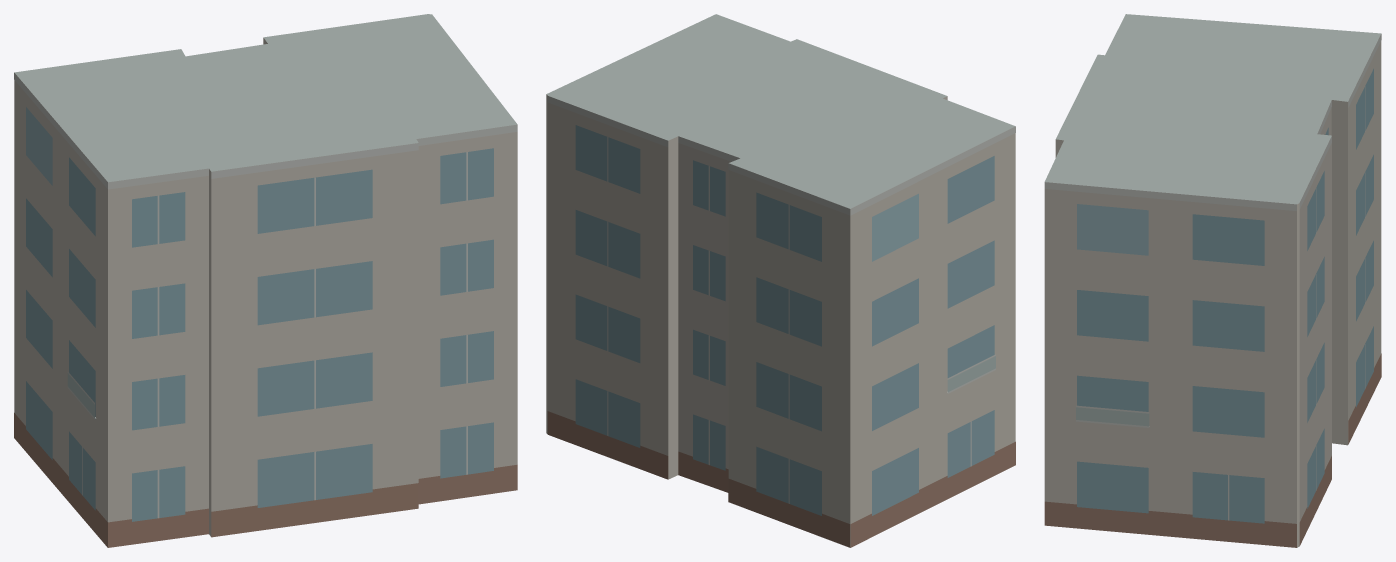
Rendered from survey-upis-32778307.glb.
3 views of the same model, side by side, from view 1: azimuth 30°, elevation 25°; view 2: azimuth 150°, elevation 25°; view 3: azimuth 270°, elevation 25° (orthographic). The views are drawn at different scales.
Parts seen in each view (by area): view 1: survey-upis-32778307.tmp; view 2: survey-upis-32778307.tmp; view 3: survey-upis-32778307.tmp.
Boxes of the visible parts, x1,y1,x2,y2 form: survey-upis-32778307.tmp: (14,14,517,547); survey-upis-32778307.tmp: (546,14,1015,547); survey-upis-32778307.tmp: (1044,14,1381,547).
Bounding box in the file's own units: 14.67 × 12.33 × 10.97.
